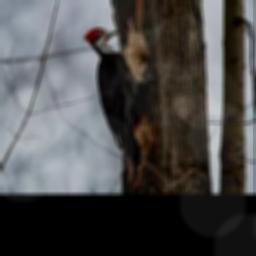Woodpecker: (84, 27, 151, 183)
